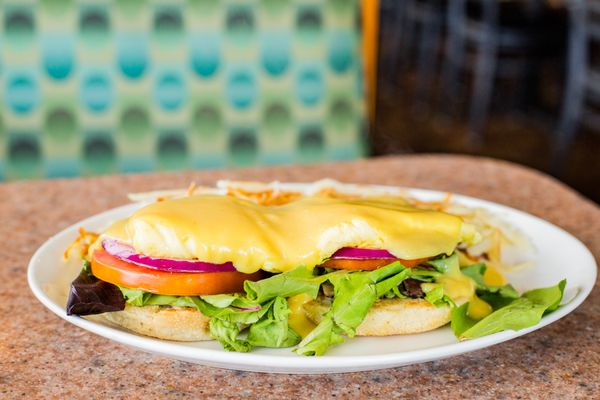pizza: (373, 0, 500, 155)
soup: (68, 187, 489, 356)
